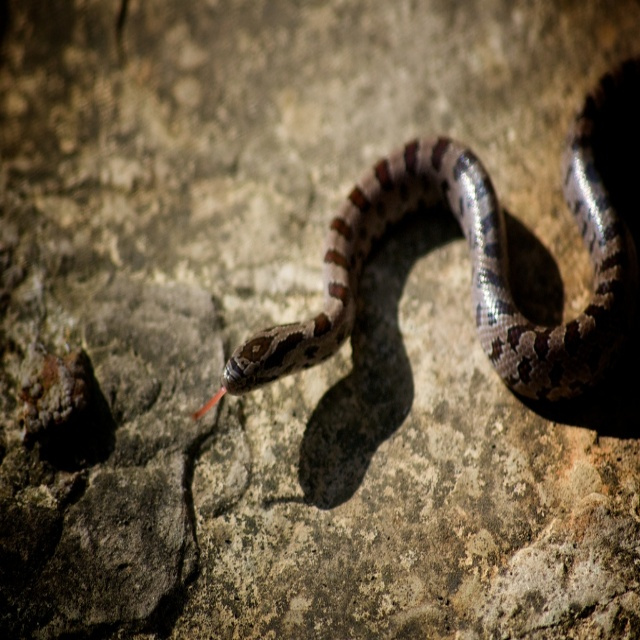Snake: (192, 54, 636, 418)
